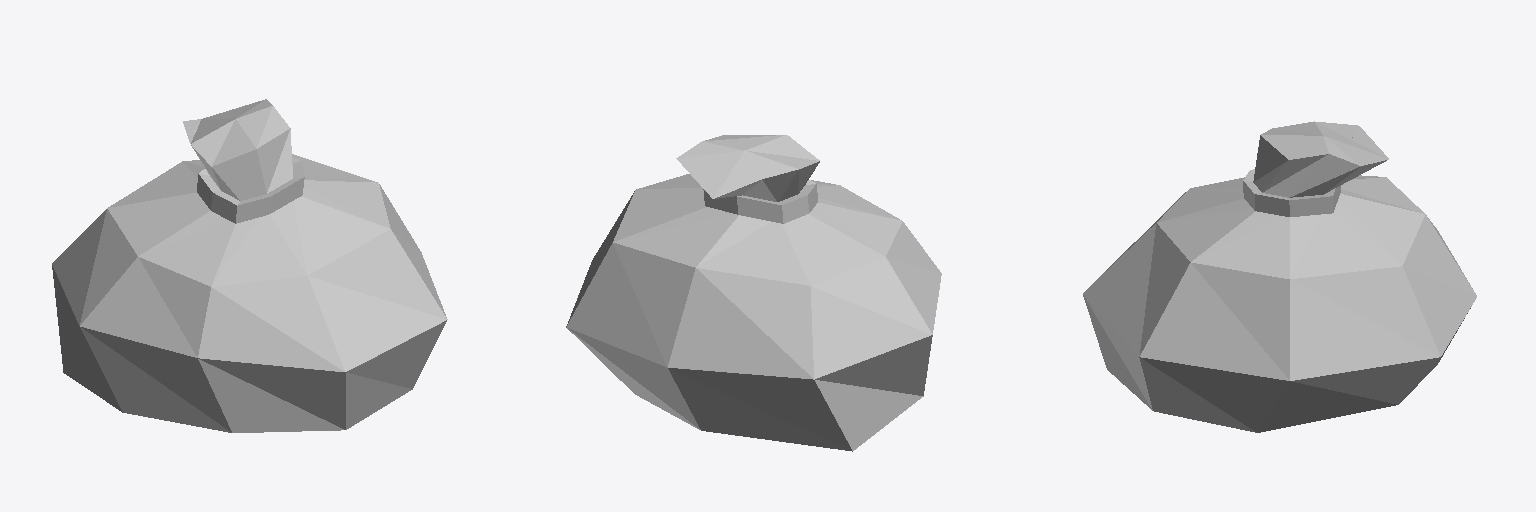
File: misc09.obj
3 renders of one model, left to right at view 1: azimuth 30°, elevation 25°; view 2: azimuth 150°, elevation 25°; view 3: azimuth 270°, elevation 25°, orthographic.
Visible parts, largest first — view 1: misc09; view 2: misc09; view 3: misc09.
Part boxes in pixels (x1,y1,x2,y2): misc09: (52, 99, 447, 432); misc09: (566, 135, 941, 451); misc09: (1083, 121, 1476, 432).
Bounding box in the file's own units: 0.0159 × 0.0109 × 0.016.